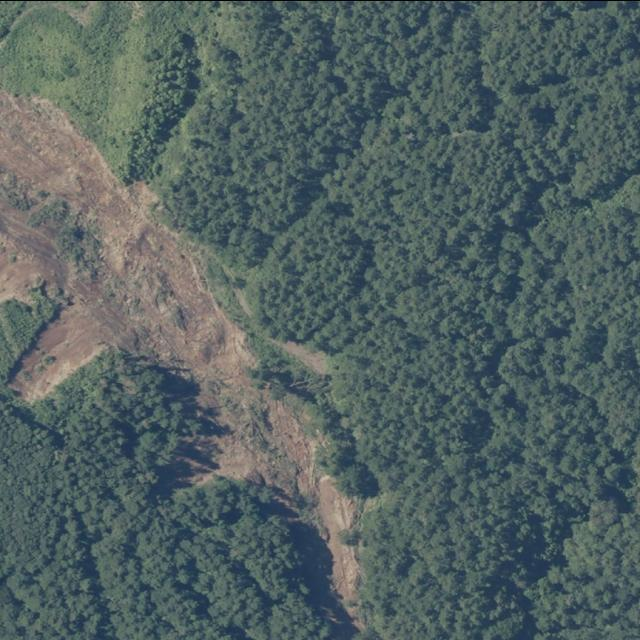landslide: (0, 91, 359, 602)
